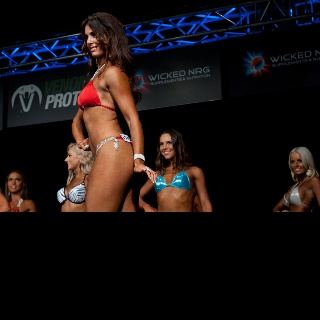without_mask: (85, 23, 110, 57), (63, 148, 82, 171), (159, 134, 173, 160), (6, 172, 22, 193), (290, 151, 303, 175)
